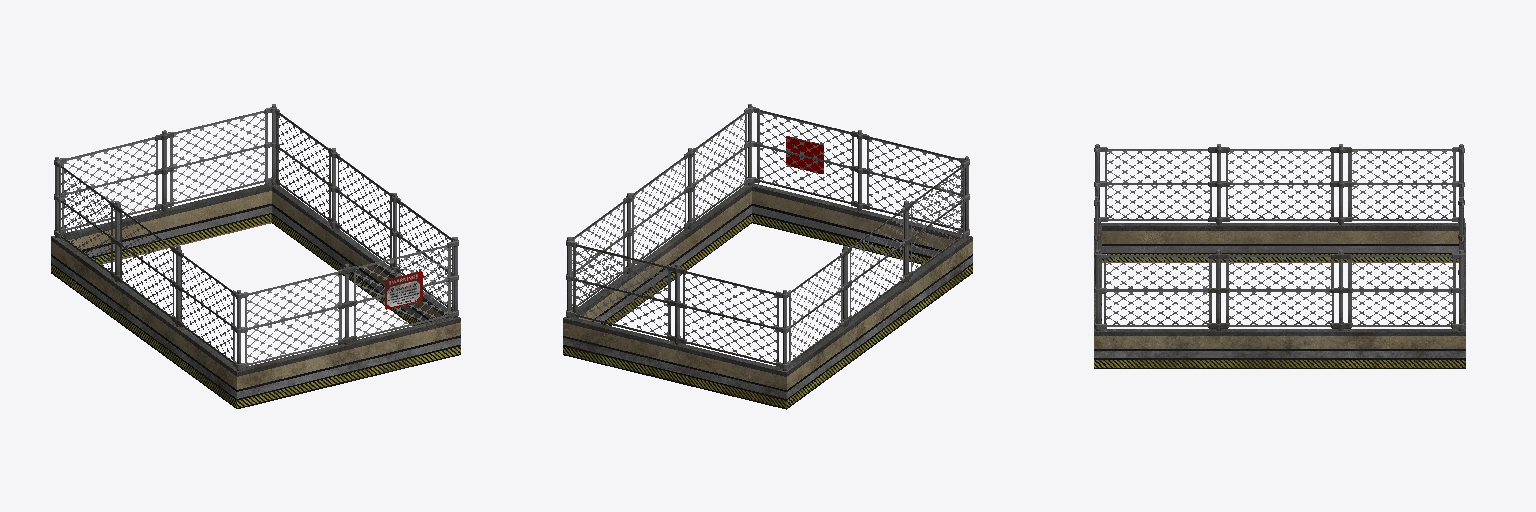
The picture shows the model from 3 angles: view 1: azimuth 30°, elevation 25°; view 2: azimuth 150°, elevation 25°; view 3: azimuth 270°, elevation 25°; orthographic projection.
Visible parts, largest first — view 1: defaultMaterial; view 2: defaultMaterial; view 3: defaultMaterial.
Boxes of the visible parts, x1,y1,x2,y2 form: defaultMaterial: [51, 104, 460, 408]; defaultMaterial: [563, 104, 972, 409]; defaultMaterial: [1094, 144, 1465, 368].
Size of the model in its own units: 112 by 56.03 by 162.
Materials: 1 (1 with a texture image).